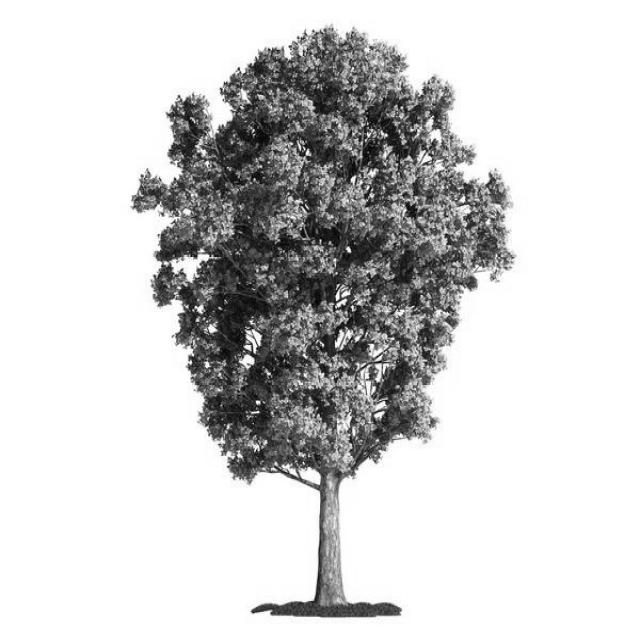Tree: (133, 27, 514, 606)
